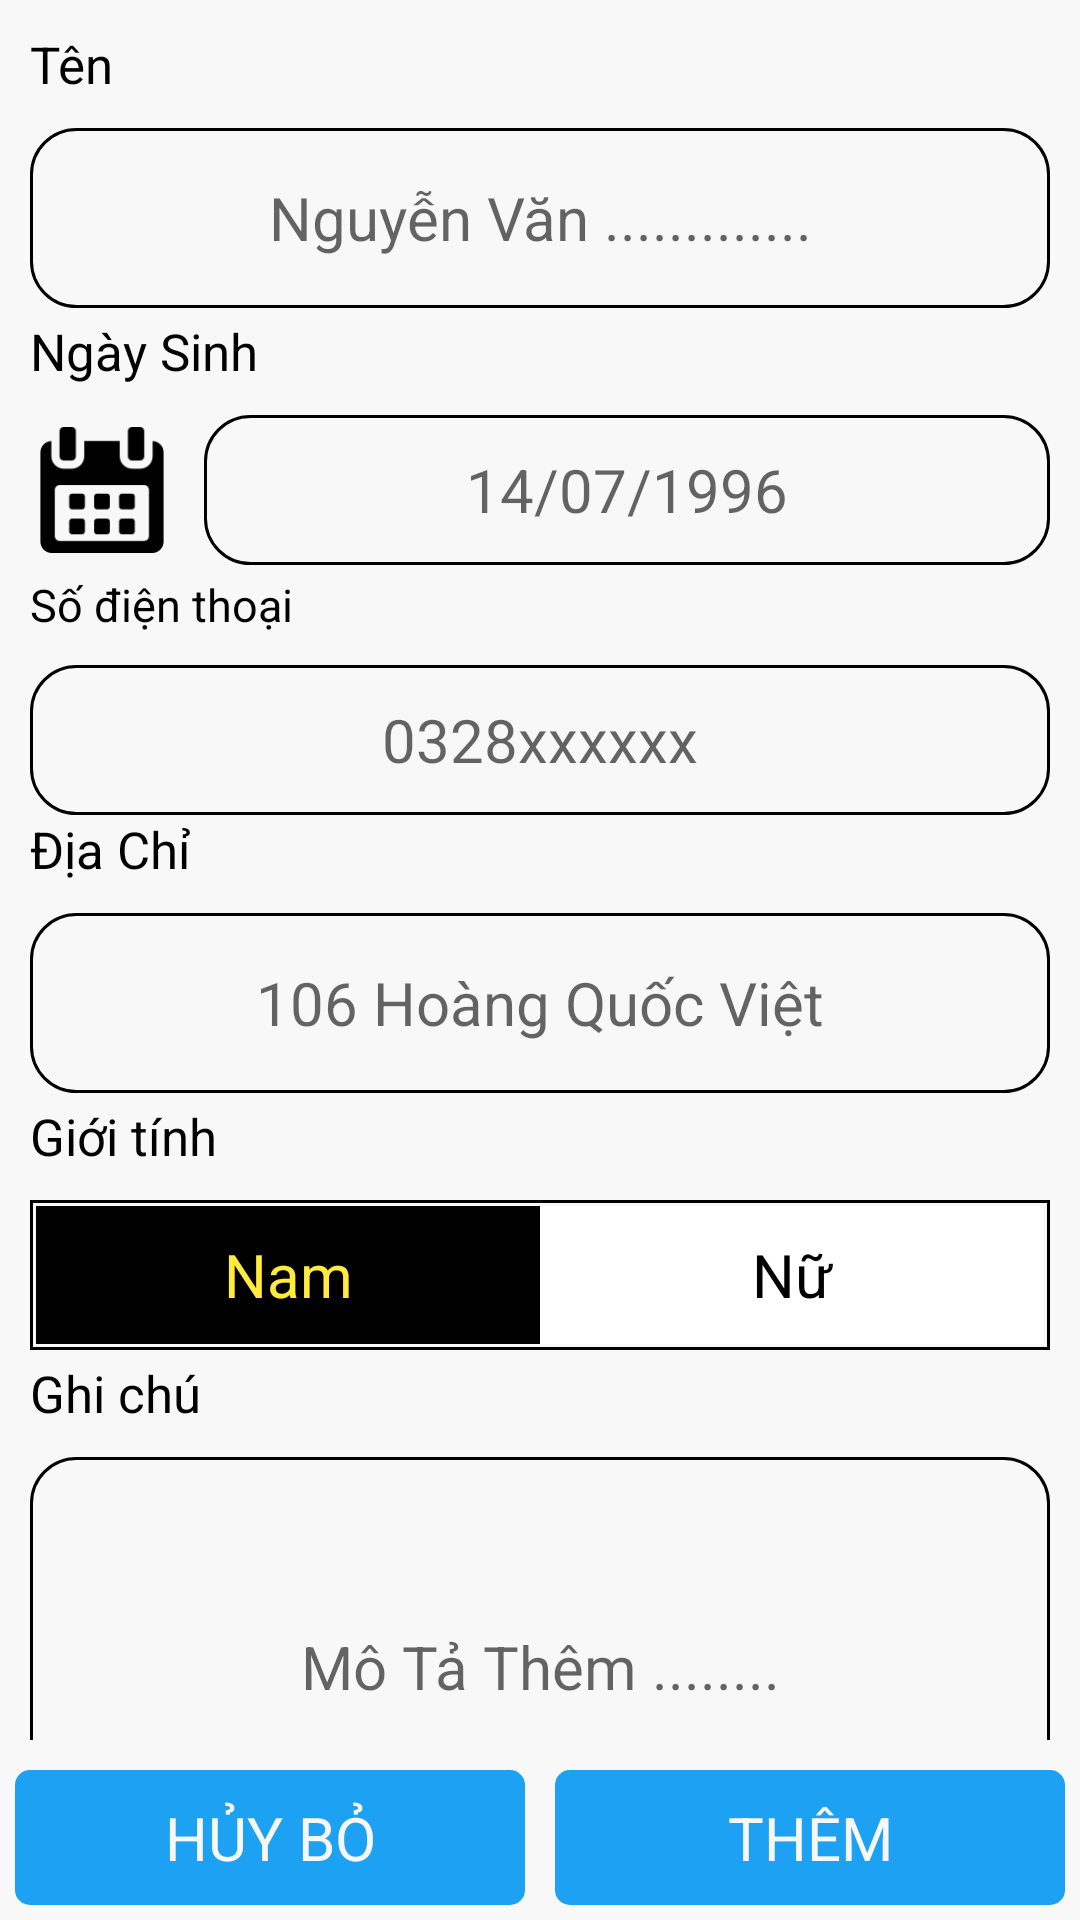

Named icons in this screenshot (1080*1920) and their centers, (x=x, y=y):
calendar: (x=102, y=490)
